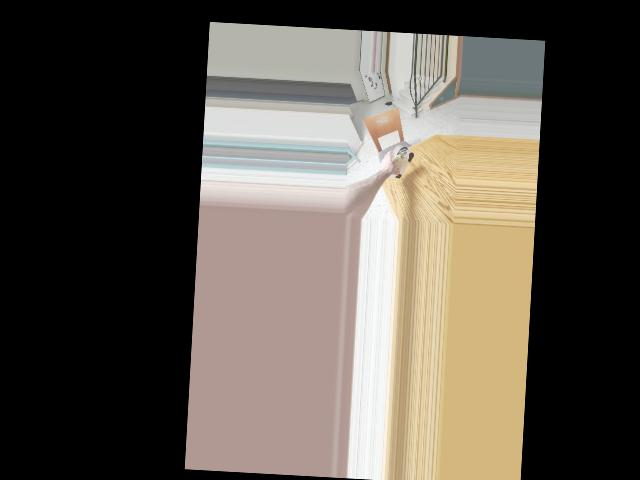cheese: (380, 144, 414, 181)
